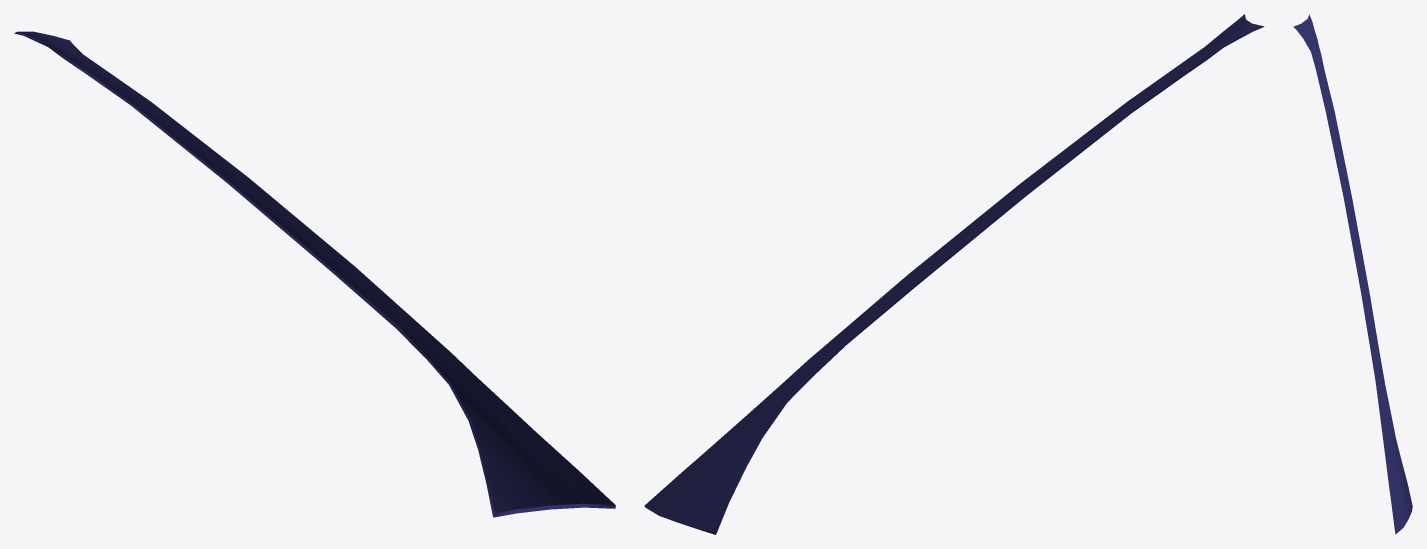
3 views of the same model, side by side, from view 1: azimuth 30°, elevation 25°; view 2: azimuth 150°, elevation 25°; view 3: azimuth 270°, elevation 25° (orthographic). The views are drawn at different scales.
Parts seen in each view (by area): view 1: P615_5A_181C_L_1_DaS_P615_5A_181C_L, P615_5A_181C_L_1_DaS_P615_5A_181C_L_E; view 2: P615_5A_181C_L_1_DaS_P615_5A_181C_L, P615_5A_181C_L_1_DaS_P615_5A_181C_L_E; view 3: P615_5A_181C_L_1_DaS_P615_5A_181C_L, P615_5A_181C_L_1_DaS_P615_5A_181C_L_E.
Part boxes in pixels (x1,y1,x2,y2): P615_5A_181C_L_1_DaS_P615_5A_181C_L: (17,31,614,513); P615_5A_181C_L_1_DaS_P615_5A_181C_L_E: (14,32,615,517); P615_5A_181C_L_1_DaS_P615_5A_181C_L: (644,14,1261,531); P615_5A_181C_L_1_DaS_P615_5A_181C_L_E: (645,14,1264,534); P615_5A_181C_L_1_DaS_P615_5A_181C_L: (1293,14,1412,533); P615_5A_181C_L_1_DaS_P615_5A_181C_L_E: (1294,27,1403,534).
Size of the model in its own units: 55.89 by 54.81 by 16.78.
